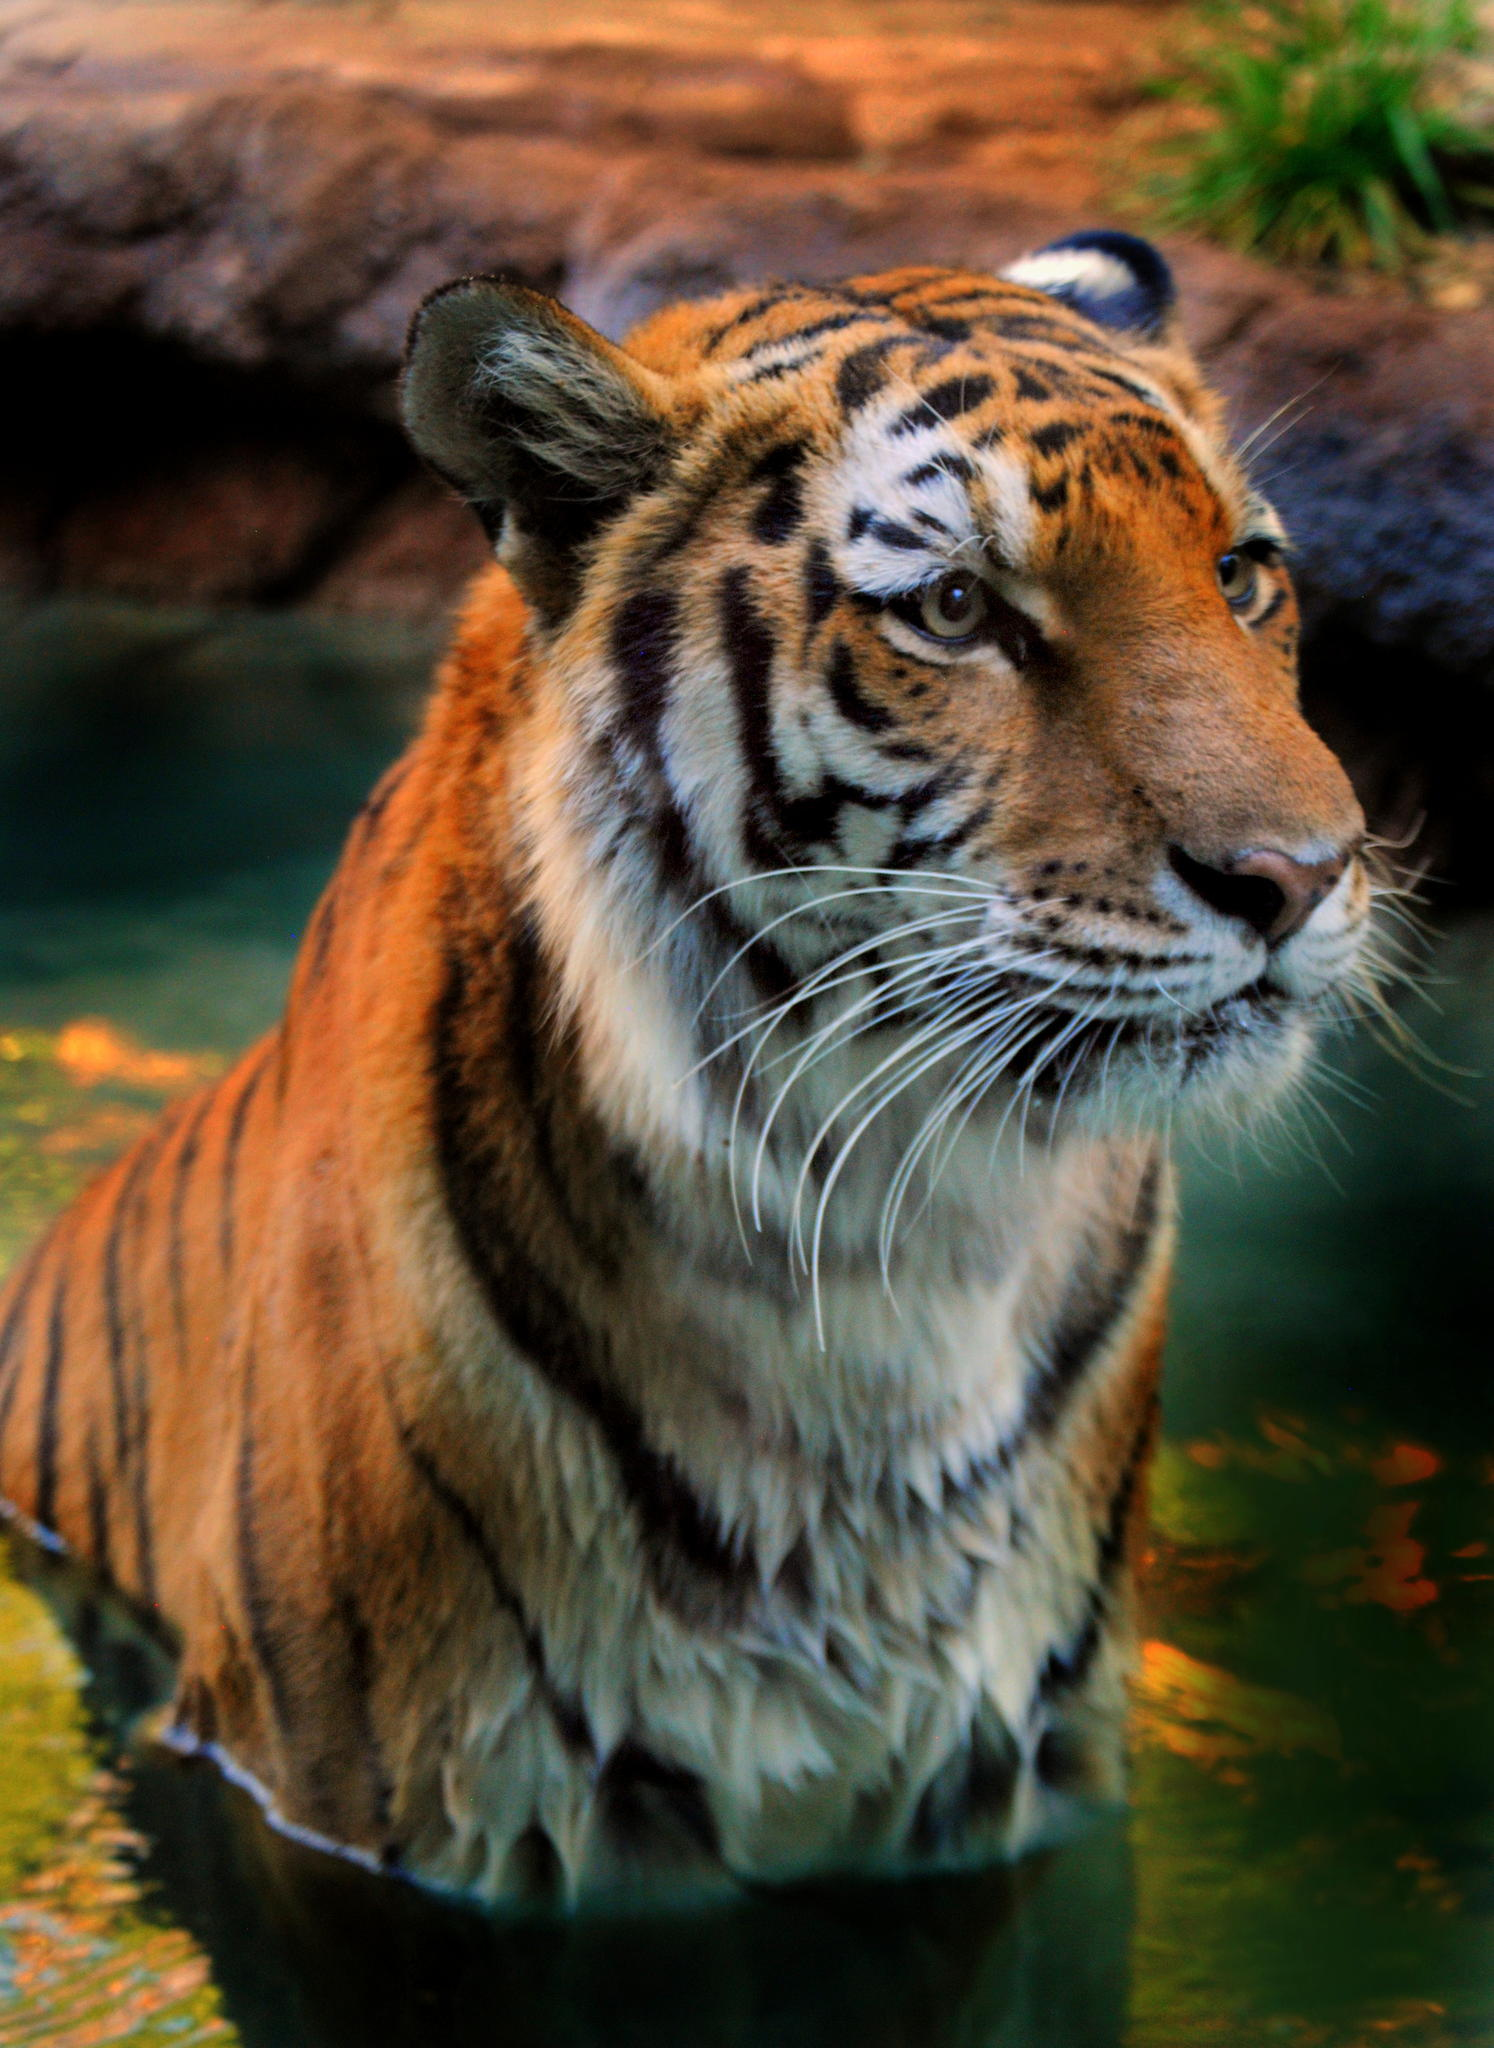tiger: (262, 215, 1427, 1867)
